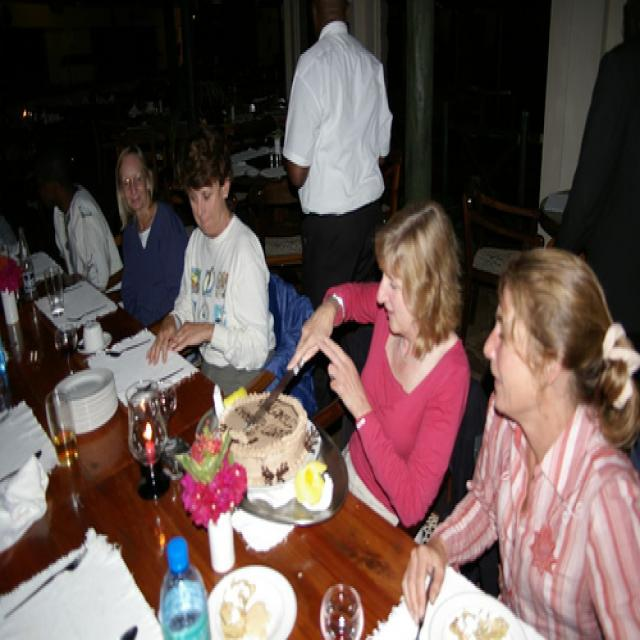chair: (460, 180, 545, 347), (268, 267, 315, 391), (381, 156, 405, 224), (412, 511, 438, 544)
dining table: (1, 206, 549, 640)
